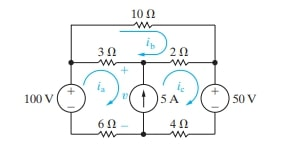current: (127, 82, 160, 115)
dc: (55, 83, 88, 114), (199, 83, 232, 113)
resistor: (166, 57, 192, 70), (95, 57, 119, 69), (96, 128, 119, 140), (131, 20, 156, 31), (168, 129, 192, 140)
